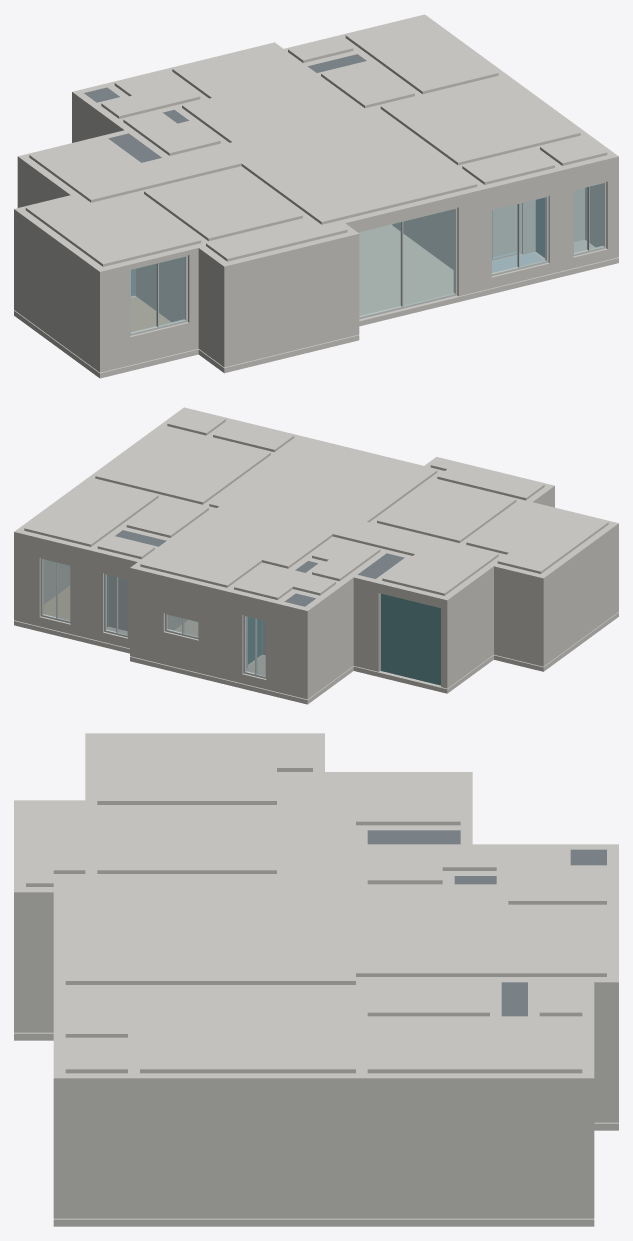
File: acro112a-expanded-archisketch.glb
3 renders of one model, top to bottom at view 1: azimuth 30°, elevation 25°; view 2: azimuth 150°, elevation 25°; view 3: azimuth 270°, elevation 25°, orthographic. The views are drawn at different scales.
Visible parts, largest first — view 1: Ceiling/02, Wall/layer-10/00, Ceiling/09, Ceiling/03, Wall/layer-01/00, Ceiling/04, Ceiling/07, Floor/living-kitchen-hall, Wall/layer-03/01, sliding-16/glass-1, Wall/layer-00/00, Wall/layer-09/00 (+40 smaller); view 2: Ceiling/02, Wall/layer-10/00, Ceiling/09, Ceiling/03, Ceiling/04, Ceiling/07, door-00/leaf, Wall/layer-00/01, Wall/layer-09/00, Base/00, Wall/layer-03/00, Wall/layer-04/00 (+39 smaller); view 3: Ceiling/02, Wall/layer-10/00, Ceiling/09, Wall/layer-03/04, Ceiling/03, Wall/layer-01/03, Wall/layer-04/04, Ceiling/07, Ceiling/04, Wall/layer-00/01, Wall/layer-02/04, Base/00 (+18 smaller).
Part boxes in pixels (box(x1,y1,x2,y2)): Ceiling/02: box(29, 44, 477, 224); Wall/layer-10/00: box(14, 14, 618, 276); Ceiling/09: box(380, 76, 580, 165); Ceiling/03: box(25, 193, 201, 266); Wall/layer-01/00: box(14, 268, 359, 361); Ceiling/04: box(144, 168, 302, 241); Ceiling/07: box(345, 16, 498, 94); Floor/living-kitchen-hall: box(358, 224, 453, 315); Wall/layer-03/01: box(146, 261, 359, 330); sliding-16/glass-1: box(403, 209, 454, 305); Wall/layer-00/00: box(14, 285, 359, 372); Wall/layer-09/00: box(14, 97, 618, 282); Ceiling/02: box(140, 437, 498, 595); Wall/layer-10/00: box(14, 407, 618, 615); Ceiling/09: box(95, 426, 270, 504); Ceiling/03: box(466, 501, 608, 573); Ceiling/04: box(377, 479, 516, 543); Ceiling/07: box(24, 479, 158, 546); door-00/leaf: box(381, 593, 440, 685); Wall/layer-00/01: box(14, 576, 379, 699); Wall/layer-09/00: box(14, 490, 618, 620); Base/00: box(14, 612, 618, 704); Wall/layer-03/00: box(441, 560, 618, 656); Wall/layer-04/00: box(441, 544, 618, 637); Ceiling/02: box(65, 773, 606, 984); Wall/layer-10/00: box(14, 733, 618, 1084); Ceiling/09: box(140, 986, 355, 1073); Wall/layer-03/04: box(53, 1137, 594, 1167); Ceiling/03: box(97, 734, 312, 804); Wall/layer-01/03: box(53, 1179, 594, 1203); Wall/layer-04/04: box(53, 1112, 594, 1136); Ceiling/07: box(367, 1017, 582, 1073); Ceiling/04: box(97, 806, 276, 873); Wall/layer-00/01: box(53, 1107, 618, 1218); Wall/layer-02/04: box(53, 1167, 594, 1179); Base/00: box(14, 1032, 618, 1226).
Bounding box in the file's own units: 13.7 × 2.82 × 10.15.
